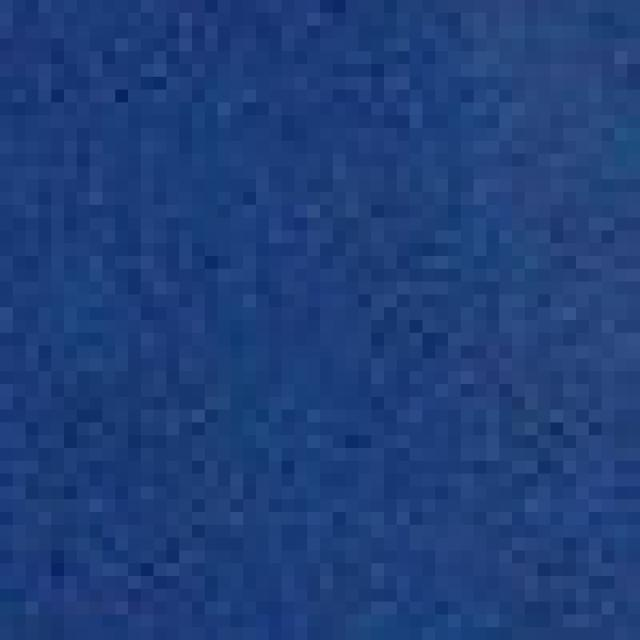no_fire: (14, 0, 587, 640)
